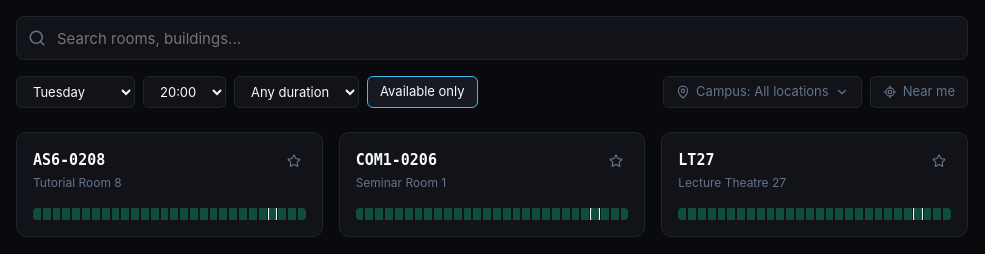
VenueFinder › filters rooms by text search
The image size is (985, 254).
Check: the heading "COM1-0206" is shown, box [356,149,446,172]
Type "AS6" into the field with placeholder "Search rooms, buildings..." at coordinates (492, 38), box [16,16,968,60]
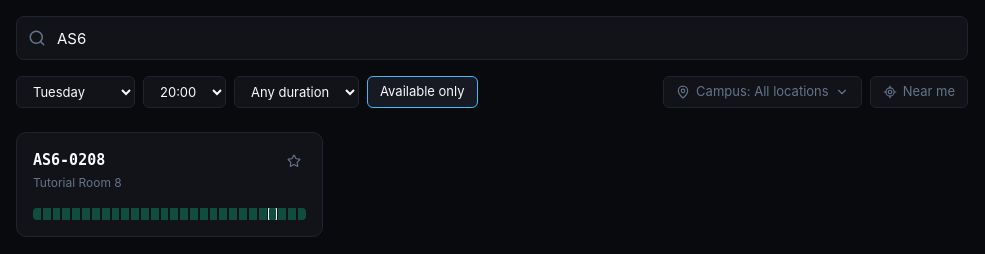
Check: the heading "AS6-0208" is shown, box [33,151,105,169]
Check: the heading "COM1-0206" is gone
Check: the heading "LT27" is gone
